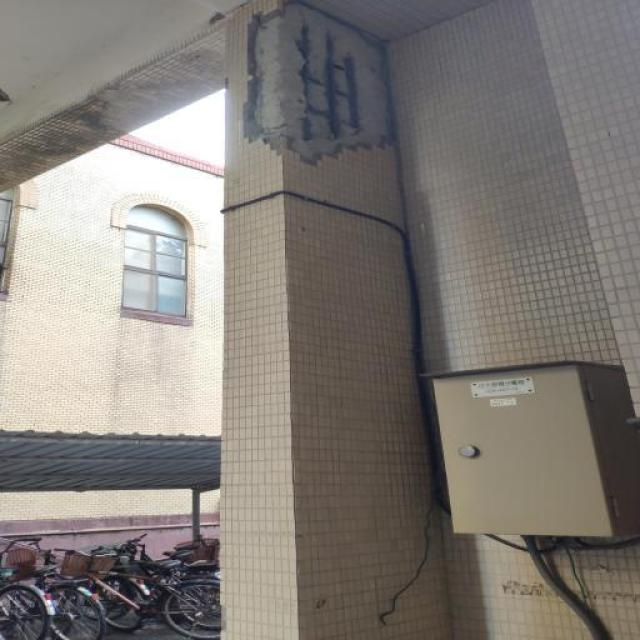D0w0: (244, 4, 390, 164)
